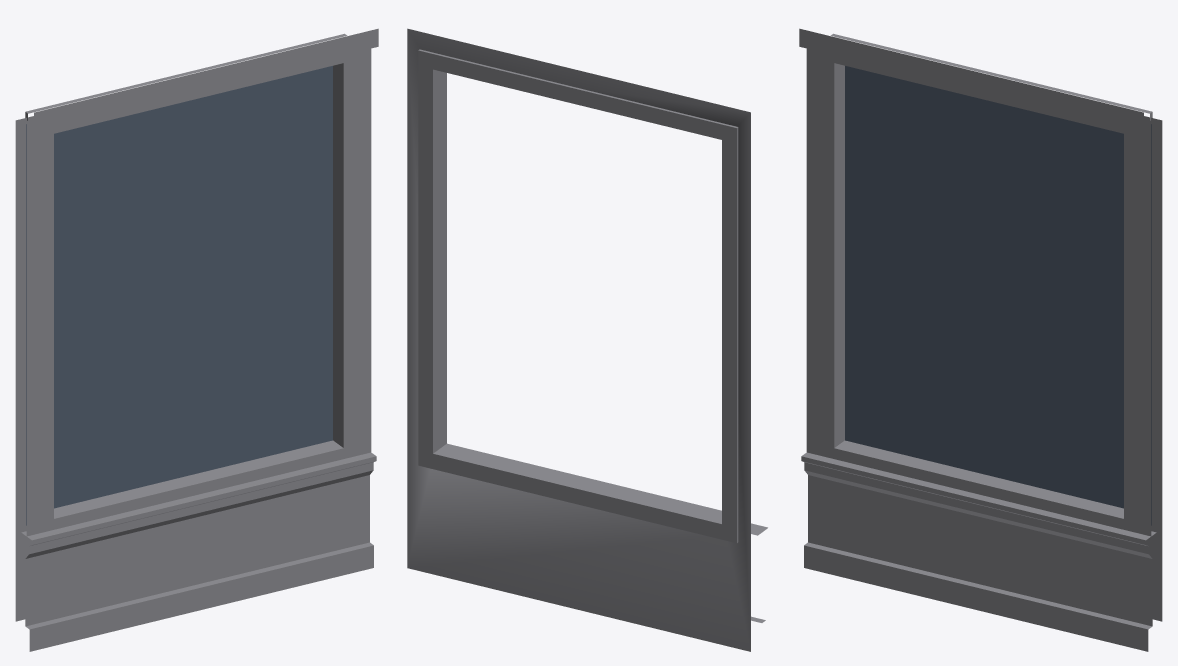
Rendered from env_block_trim_first_floor_window_001.glb.
3 views of the same model, side by side, from view 1: azimuth 30°, elevation 25°; view 2: azimuth 150°, elevation 25°; view 3: azimuth 330°, elevation 25° (orthographic).
Visible parts, largest first — view 1: part_1, part_0; view 2: part_0; view 3: part_1, part_0.
Boxes of the visible parts, x1,y1,x2,y2 form: part_1: (26, 66, 332, 525); part_0: (15, 28, 378, 651); part_0: (407, 28, 767, 651); part_1: (845, 66, 1151, 525); part_0: (799, 28, 1162, 651).
Size of the model in its own units: 2 by 3.01 by 0.2151.
